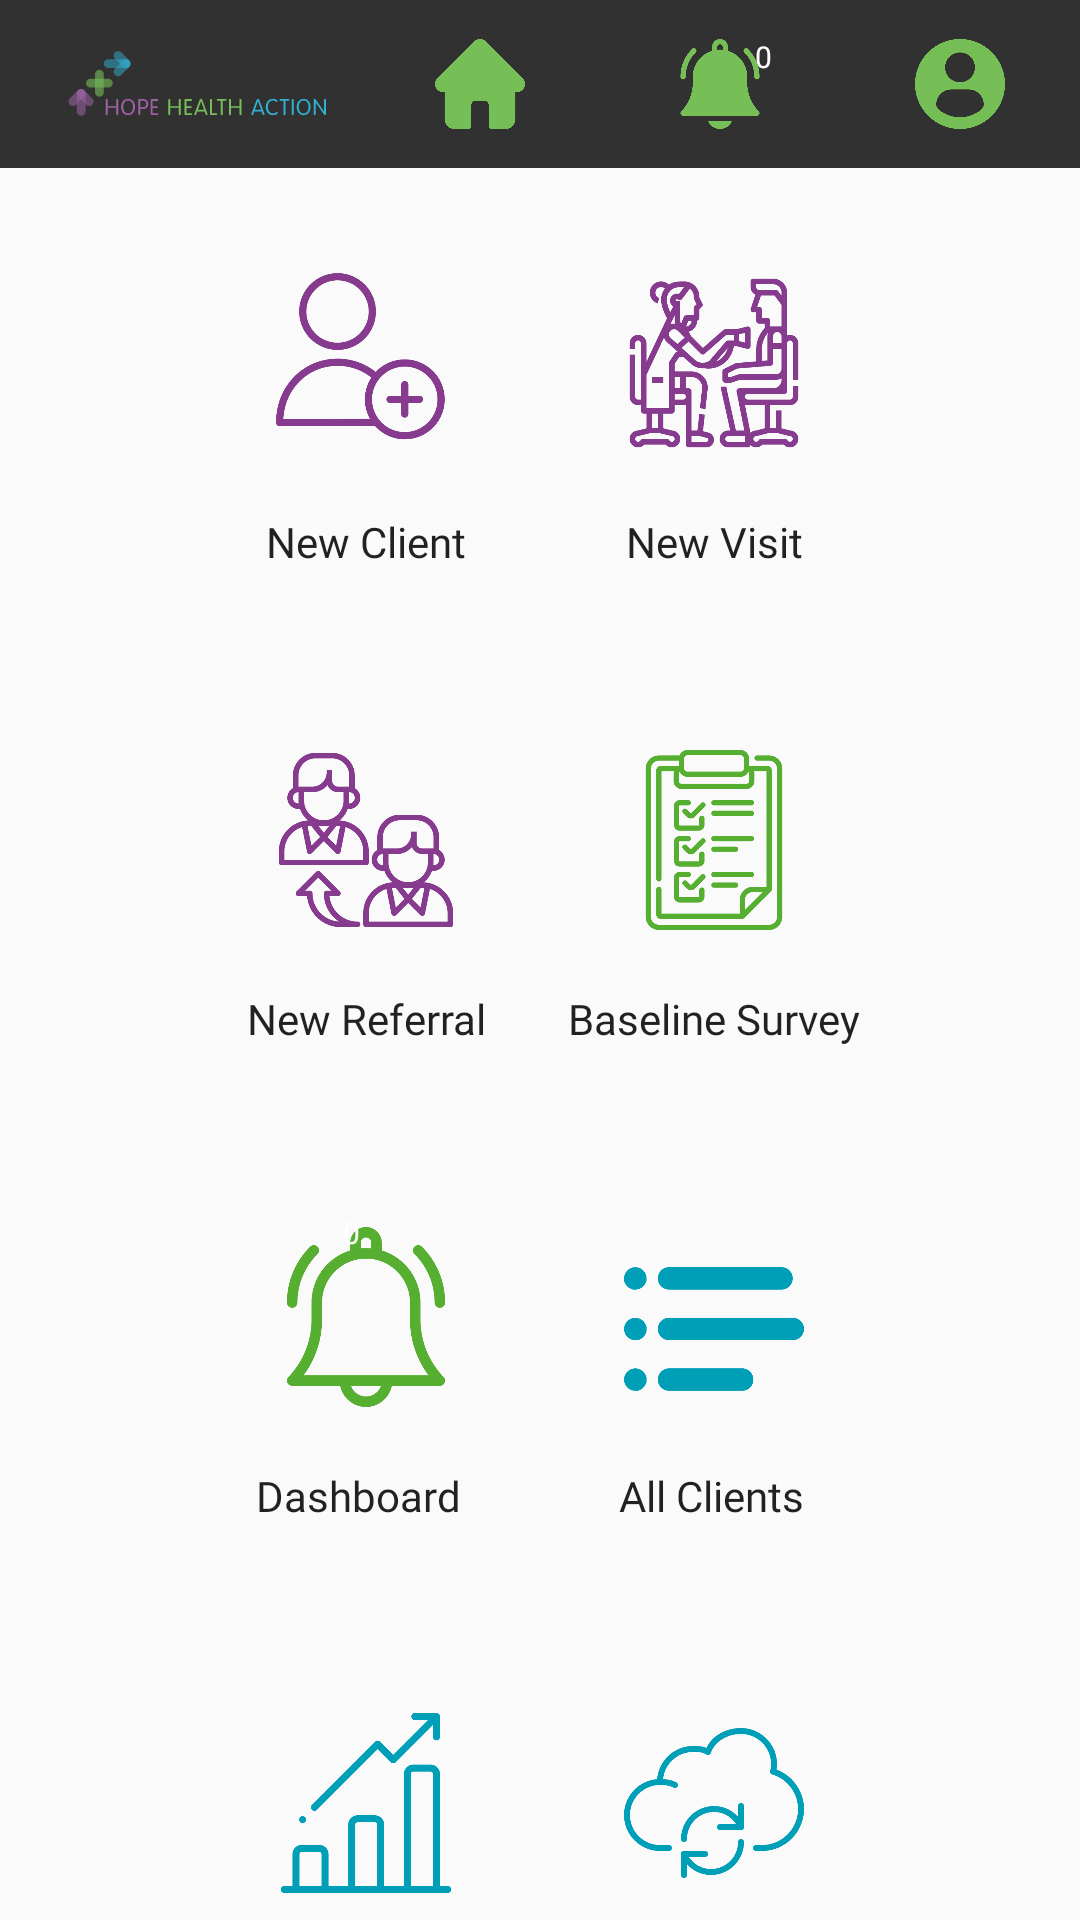

Named icons in this screenshot (1080px×1920px) and their centers, [x,y]:
cloud: [714,1803]
examination: [714,363]
home: [480,84]
profile taskbar: [960,84]
stats: [366,1803]
